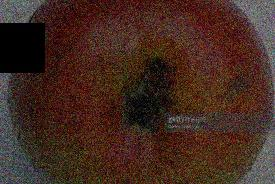rotten apple: (1, 1, 275, 184)
